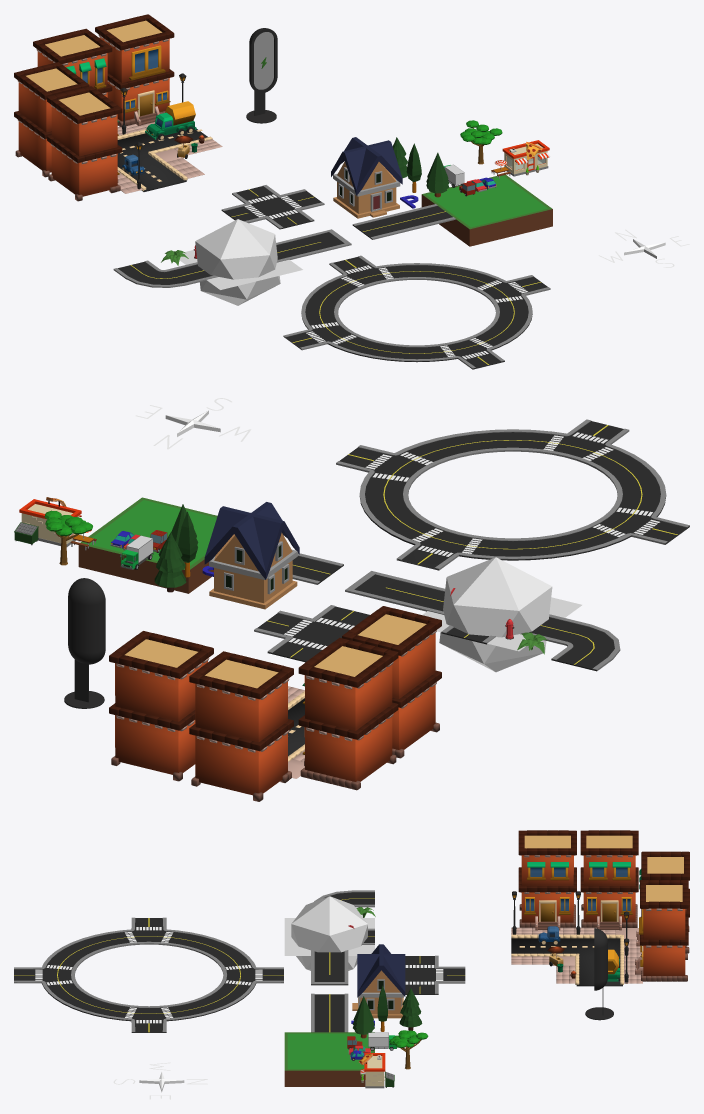
Rendered from cityandroads.glb.
3 views of the same model, one above another, from view 1: azimuth 30°, elevation 25°; view 2: azimuth 150°, elevation 25°; view 3: azimuth 270°, elevation 25° (orthographic). The views are drawn at different scales.
Parts seen in each view (by area): view 1: streetview, road_roundabout, tile, marker, house_1, road_cross, charge_station, road_straight, road_corner, pizza_hut, road_end, plane (+3 smaller); view 2: streetview, road_roundabout, marker, house_1, tile, charge_station, road_cross, road_corner, road_end, pizza_hut, pine_tree_3, tree_1 (+6 smaller); view 3: streetview, road_roundabout, tile, marker, house_1, road_cross, road_straight, charge_station, road_end, pizza_hut, plane, road_corner (+5 smaller).
Part boxes in pixels (left/top/right/bottom): streetview: left=14, top=14, right=222, bottom=201; road_roundabout: left=283, top=255, right=550, bottom=369; tile: left=421, top=174, right=552, bottom=246; marker: left=195, top=219, right=280, bottom=305; house_1: left=331, top=137, right=402, bottom=218; road_cross: left=221, top=185, right=324, bottom=229; charge_station: left=246, top=28, right=277, bottom=123; road_straight: left=352, top=204, right=455, bottom=239; road_corner: left=113, top=260, right=206, bottom=287; pizza_hut: left=491, top=140, right=550, bottom=178; road_end: left=276, top=229, right=351, bottom=259; plane: left=179, top=250, right=302, bottom=289; streetview: left=109, top=606, right=441, bottom=801; road_roundabout: left=336, top=419, right=689, bottom=570; marker: left=439, top=557, right=552, bottom=672; house_1: left=204, top=502, right=299, bottom=609; tile: left=78, top=497, right=217, bottom=593; charge_station: left=64, top=578, right=105, bottom=708; road_cross: left=254, top=605, right=369, bottom=662; road_corner: left=541, top=618, right=620, bottom=671; road_end: left=345, top=571, right=445, bottom=611; pizza_hut: left=14, top=497, right=96, bottom=550; pine_tree_3: left=154, top=532, right=186, bottom=592; tree_1: left=44, top=510, right=92, bottom=565; streetview: left=511, top=830, right=689, bottom=986; road_roundabout: left=14, top=917, right=283, bottom=1032; tile: left=284, top=1032, right=374, bottom=1086; marker: left=291, top=896, right=367, bottom=970; house_1: left=352, top=944, right=405, bottom=1018; road_cross: left=405, top=955, right=465, bottom=994; road_straight: left=311, top=993, right=348, bottom=1032; charge_station: left=585, top=928, right=613, bottom=1020; road_end: left=311, top=955, right=348, bottom=985; pizza_hut: left=358, top=1053, right=394, bottom=1088; plane: left=284, top=918, right=374, bottom=955; road_corner: left=314, top=890, right=374, bottom=907.
Size of the model in its own units: 5.5 by 1.53 by 7.48.
29 materials, 3 textured.
